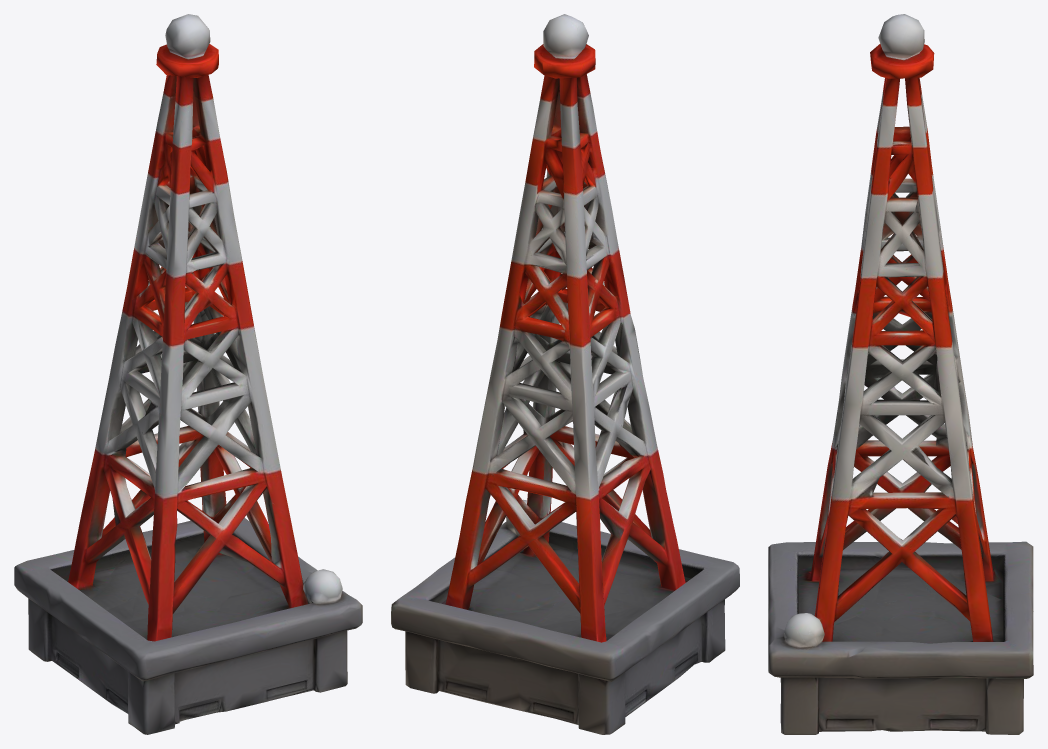
Rendered from CenarioAntena.glb.
3 views of the same model, side by side, from view 1: azimuth 30°, elevation 25°; view 2: azimuth 150°, elevation 25°; view 3: azimuth 270°, elevation 25° (orthographic). The views are drawn at different scales.
Visible parts, largest first — view 1: tripo_node_73a7cf4d-946c-4bba-9c49-e33a2202baaa; view 2: tripo_node_73a7cf4d-946c-4bba-9c49-e33a2202baaa; view 3: tripo_node_73a7cf4d-946c-4bba-9c49-e33a2202baaa.
Part boxes in pixels (x1=…): tripo_node_73a7cf4d-946c-4bba-9c49-e33a2202baaa: x1=14, y1=14, x2=362, y2=734; tripo_node_73a7cf4d-946c-4bba-9c49-e33a2202baaa: x1=391, y1=14, x2=739, y2=734; tripo_node_73a7cf4d-946c-4bba-9c49-e33a2202baaa: x1=768, y1=14, x2=1033, y2=734.
Bounding box in the file's own units: 0.5389 × 1.5 × 0.5402.
Materials: 1 (1 with a texture image).
